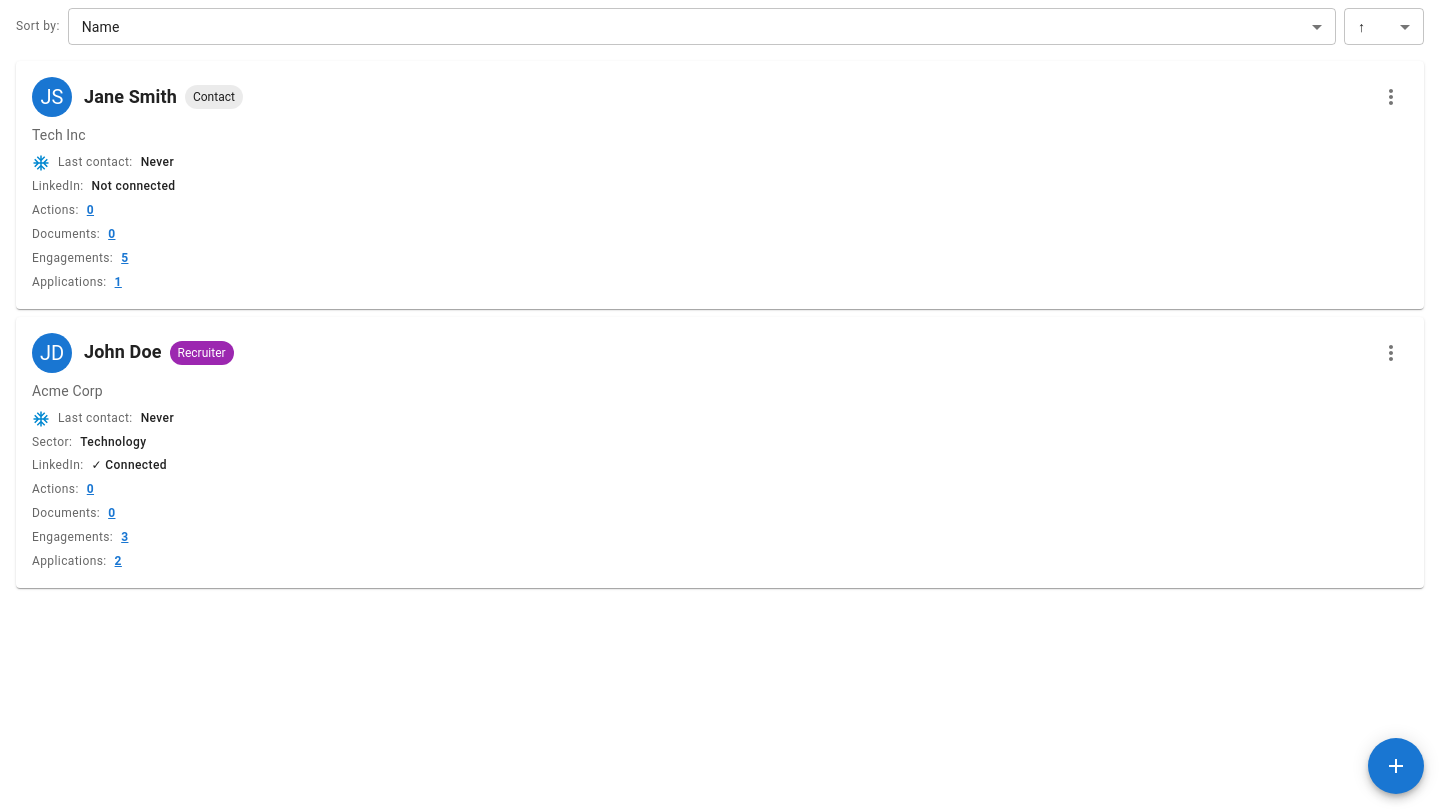
it: HubMainView Mobile Modals › Contact Engagements Modal › should open engagements modal when clicking engagement count on contact card
Check: the text "John Doe" is shown, box [84,338,162,367]
Check: the button "John Doe" is shown, box [16,317,1424,588]
Click the button named "Engagements for John Doe" at (125,538), box [121,528,128,548]
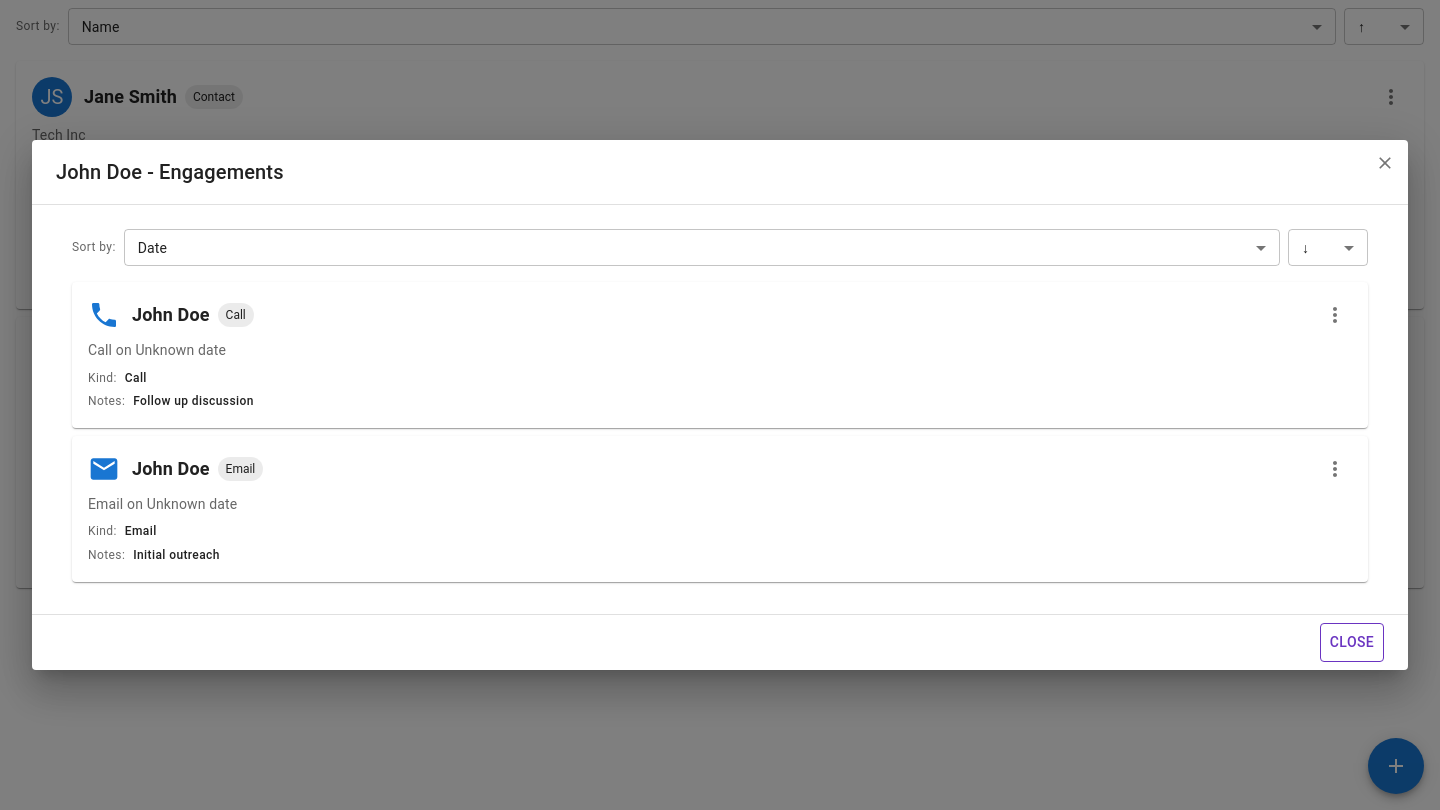
Check: the dialog is shown
Check: the heading "John Doe - Engagements" is shown, box [56,160,284,184]
Check: the text "Follow up discussion" is shown, box [133,392,254,412]
